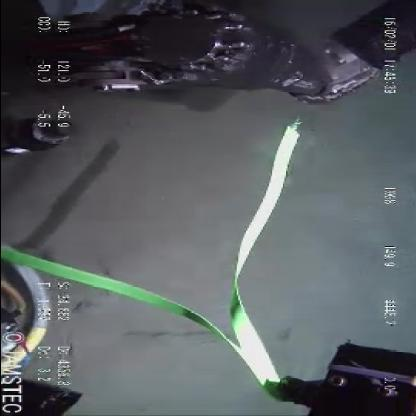Rov: (1, 1, 413, 155)
